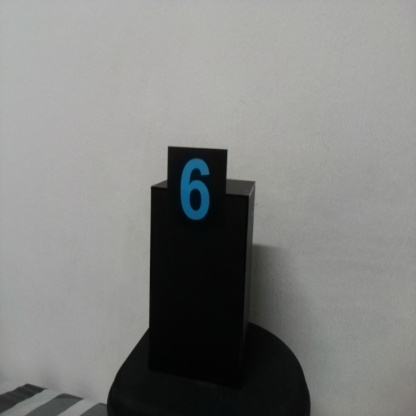id_6: (169, 147, 225, 249)
